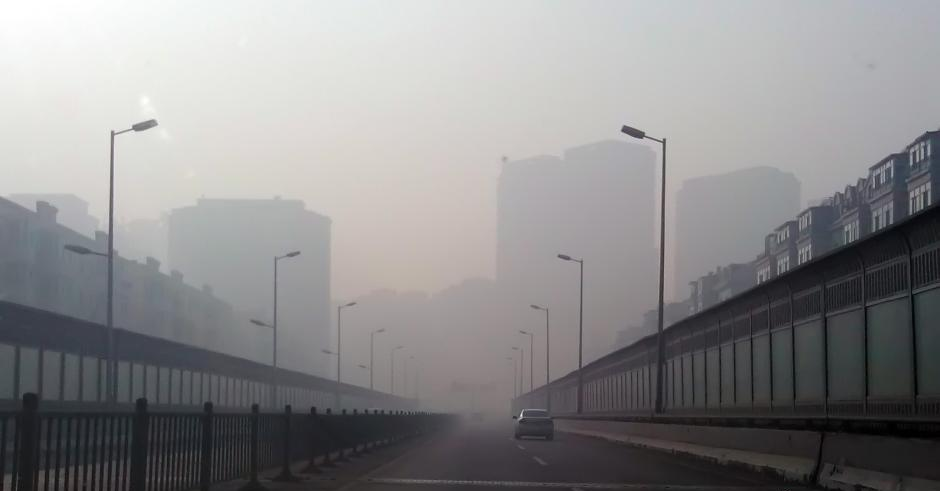car: (512, 409, 555, 440), (469, 411, 483, 422)
